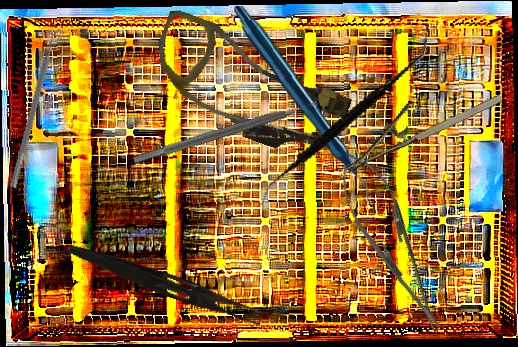Cannula: (138, 7, 361, 168)
Dressing Forceps: (64, 241, 267, 327)
Fixation Ring: (128, 82, 330, 176)
Handpiece: (230, 5, 373, 207)
Needle Holder: (323, 140, 458, 342), (330, 68, 505, 174)
Spatula Surgical: (258, 2, 431, 238), (9, 26, 64, 190)
